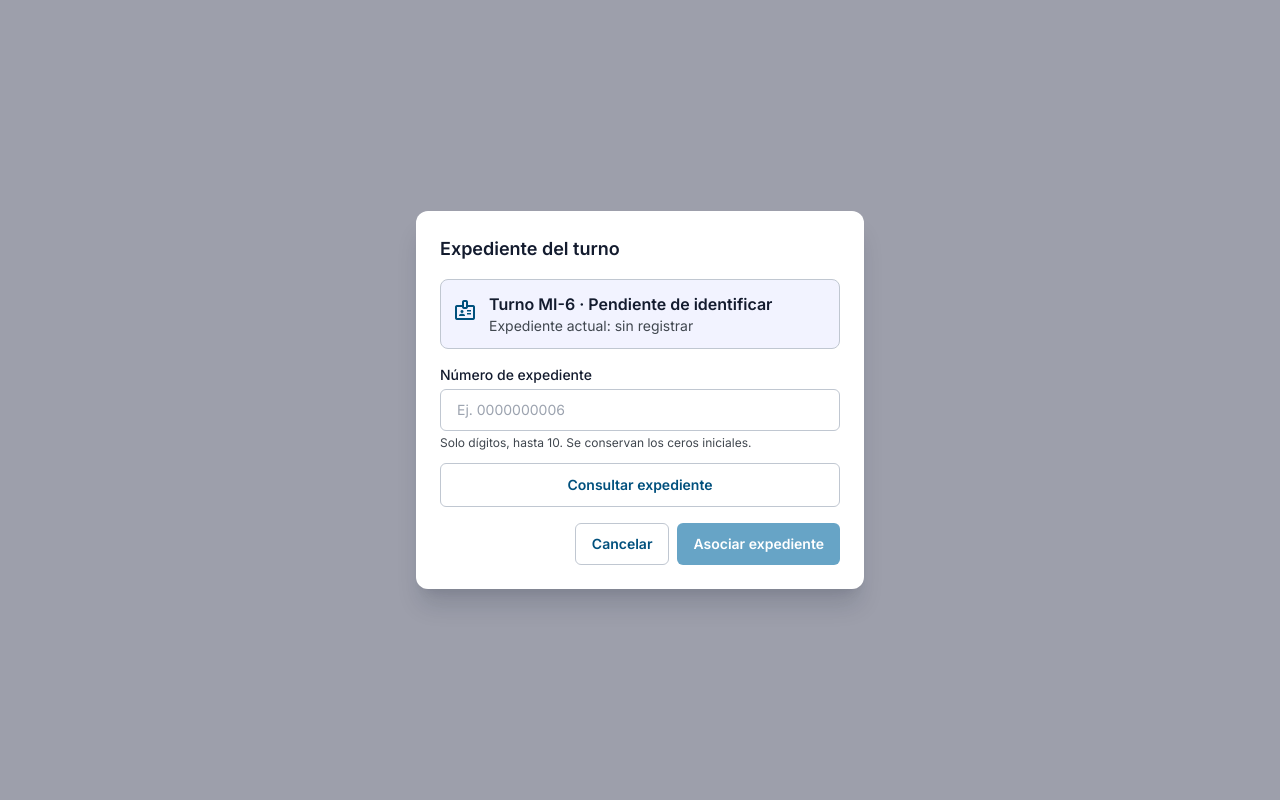
Test case: ModalExpediente › rechaza el formato inválido 12A45
The width and height of the screenshot is (1280, 800).
Type "12A45" into the field labelled "Número de expediente" at (640, 410), box [440,389,840,431]
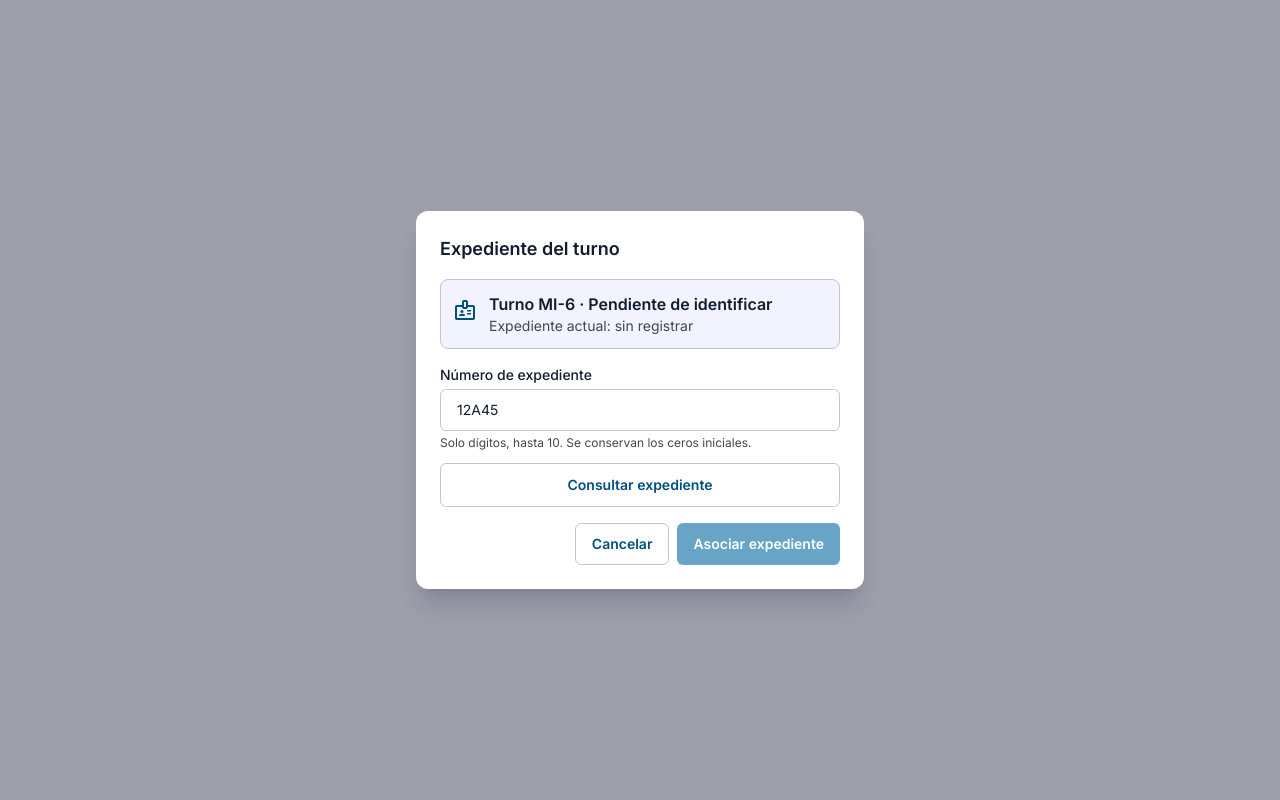
Click the button "Consultar expediente" at (640, 485), box [440,463,840,507]
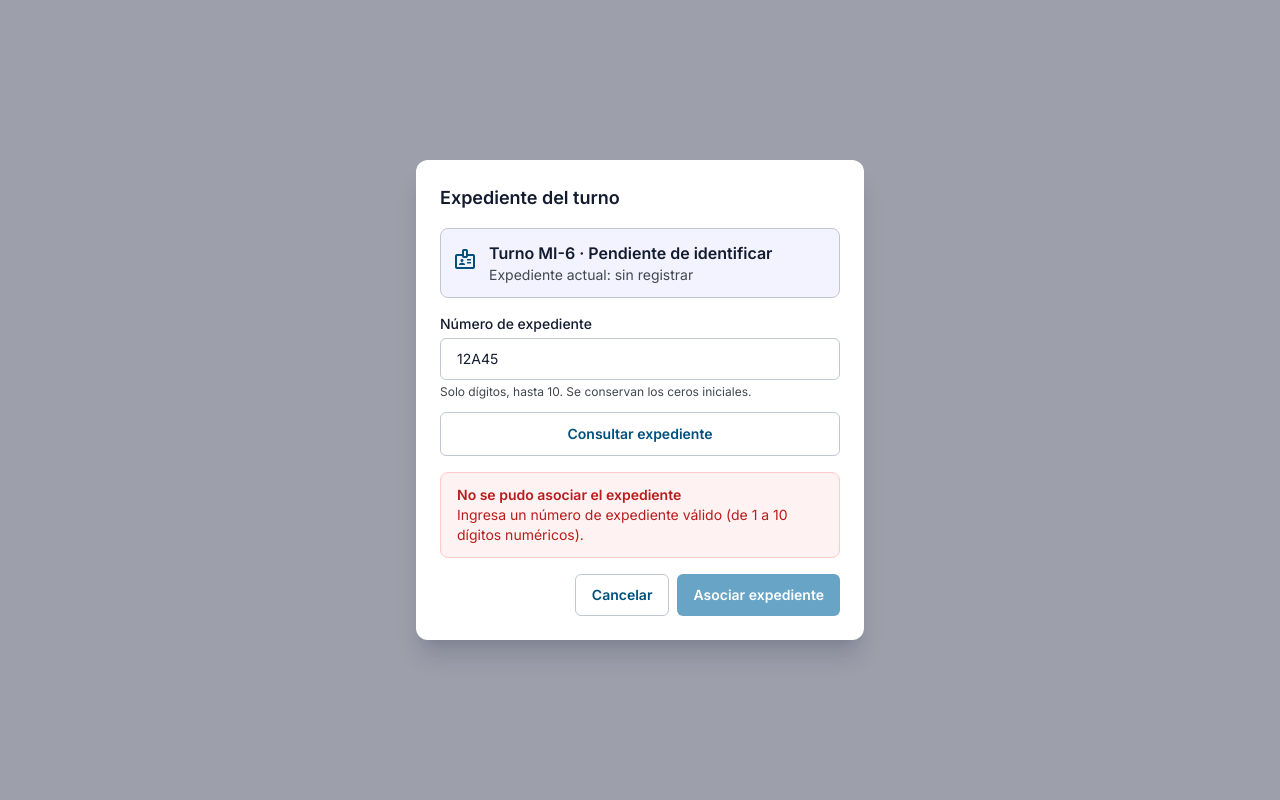
Check: the button "Asociar expediente" is disabled, box [678,574,840,616]
Check: the text "de 1 a 10 dígitos numéricos" is shown, box [457,506,788,543]
